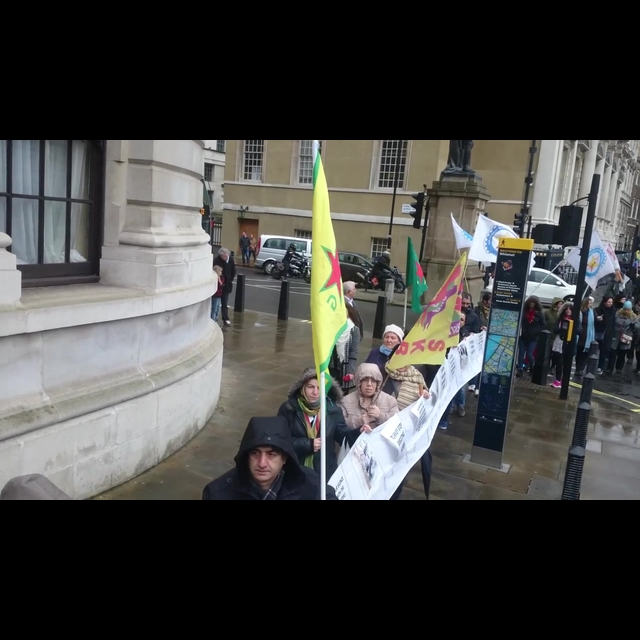YPG: (306, 141, 350, 397)
YPJ: (399, 231, 430, 321)
